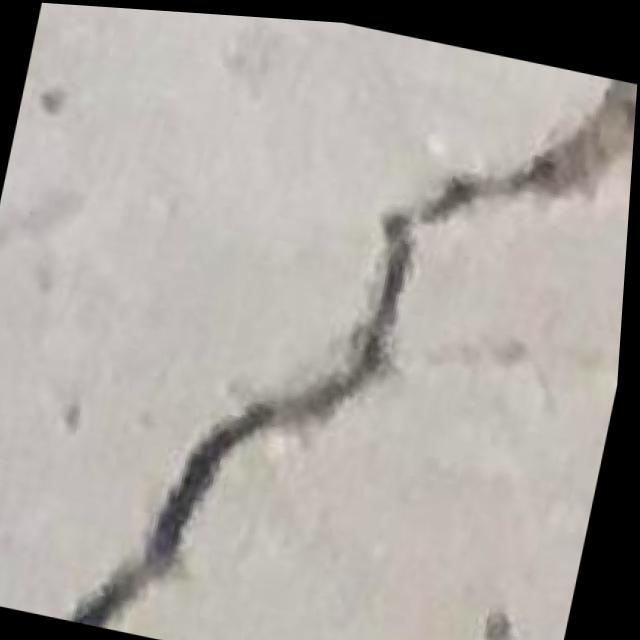Crack: (61, 5, 640, 640)
